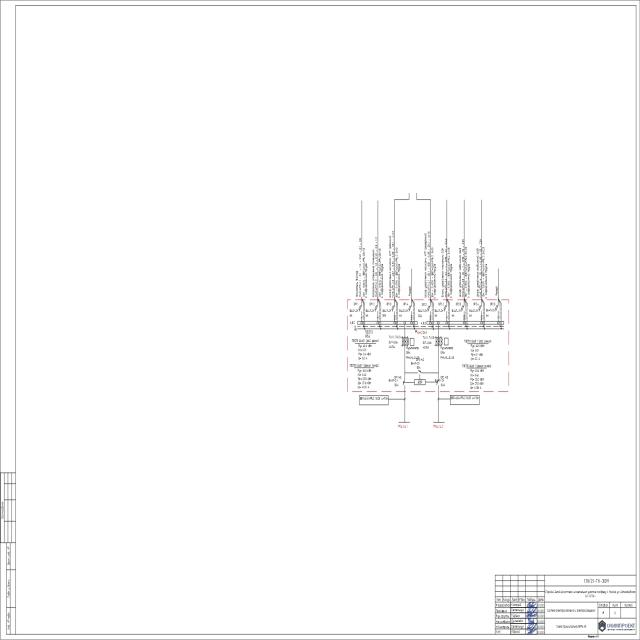-: (440, 345, 455, 360), (406, 346, 420, 359), (434, 378, 446, 388), (388, 340, 399, 350), (364, 329, 374, 339), (365, 308, 375, 318), (422, 340, 432, 350), (388, 378, 399, 387), (410, 361, 421, 370), (382, 308, 391, 318), (486, 308, 495, 318), (434, 309, 444, 318), (469, 308, 478, 318), (349, 308, 358, 318), (418, 309, 427, 318), (452, 309, 461, 318), (399, 309, 408, 318)
AVR: (414, 378, 426, 385)
PM: (444, 336, 449, 346), (410, 338, 415, 347)
QF: (408, 303, 414, 320), (358, 304, 364, 319), (478, 304, 483, 321), (427, 304, 432, 321), (461, 303, 466, 320), (444, 304, 449, 319), (375, 304, 380, 318), (392, 304, 396, 321), (496, 303, 500, 318), (416, 369, 422, 375), (436, 379, 440, 386), (402, 379, 406, 386)
TT: (434, 336, 444, 347), (400, 336, 410, 346)
